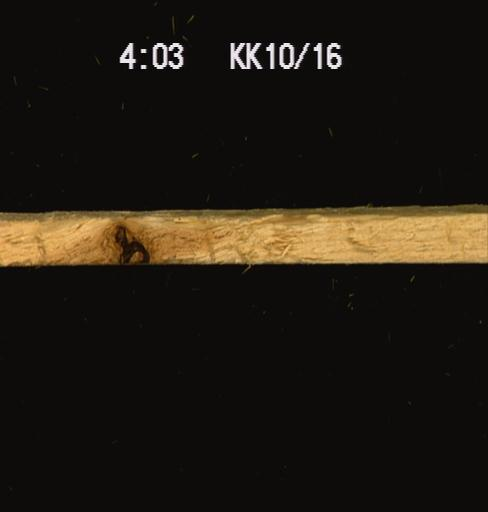wave: (0, 203, 487, 219)
